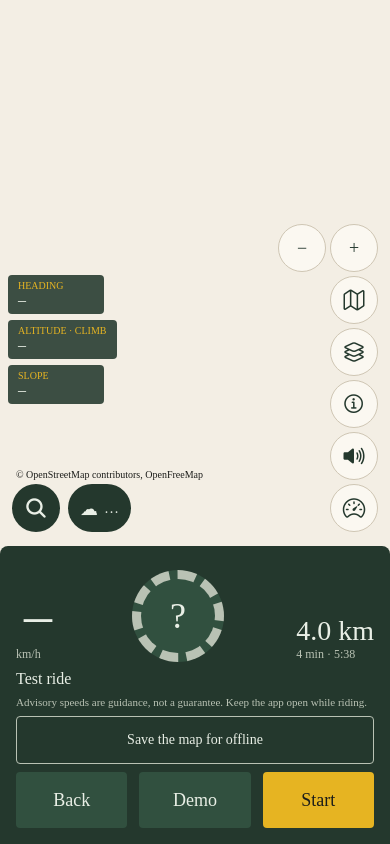
Test: the limit of the road is on screen, with its next change
Click the button "Start" at x=318, y=800, box [263,772,374,828]
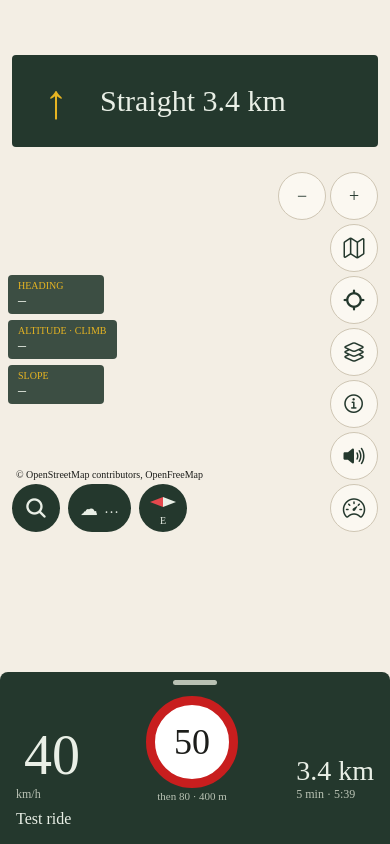
Expected: the element named "Speed limit 50" is shown, [146,696,238,788]
Expected: the text "50" is shown, [174,721,210,763]
Expected: the text "then 80 · 400 m" is shown, [157,790,227,802]
